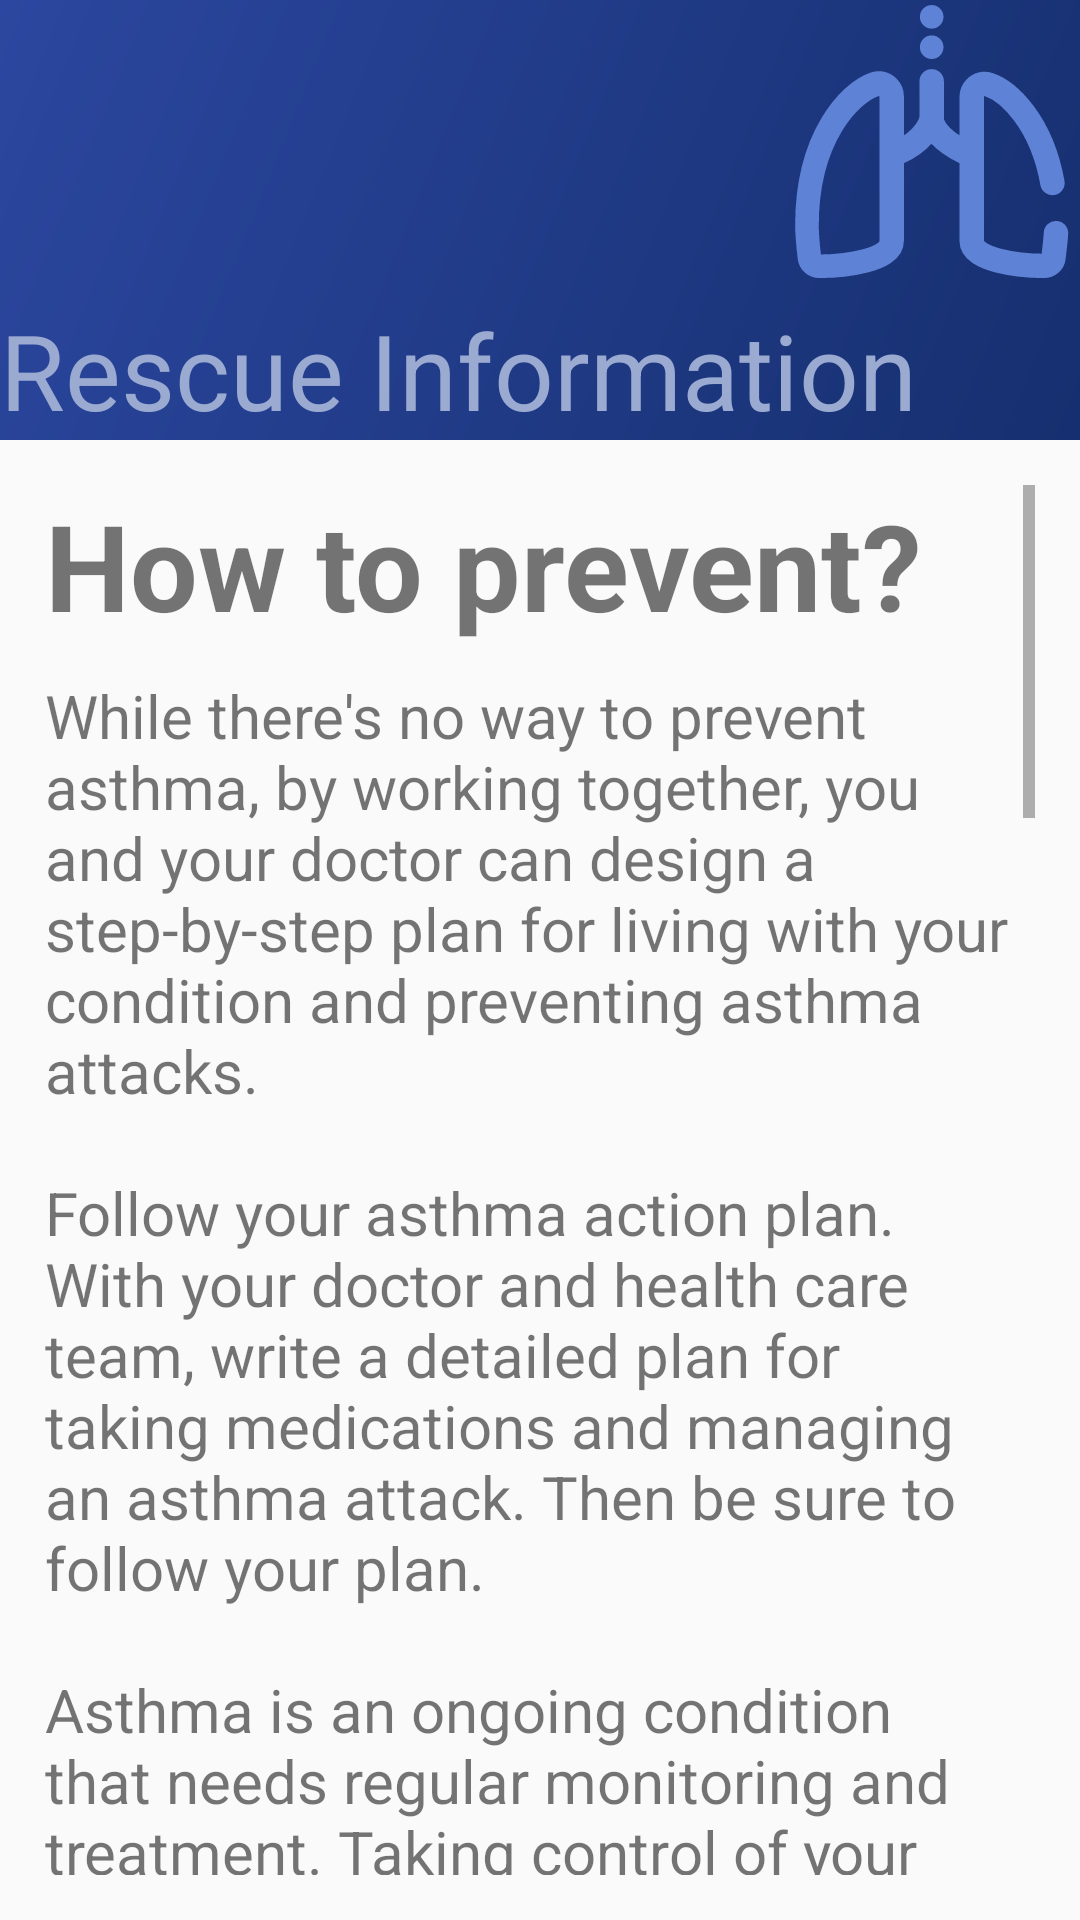

Icon bounding boxes for this 1080px x 1920px phone screenshot, format (x1, y1, x2, y2):
Asthma: (795, 5, 1068, 278)
